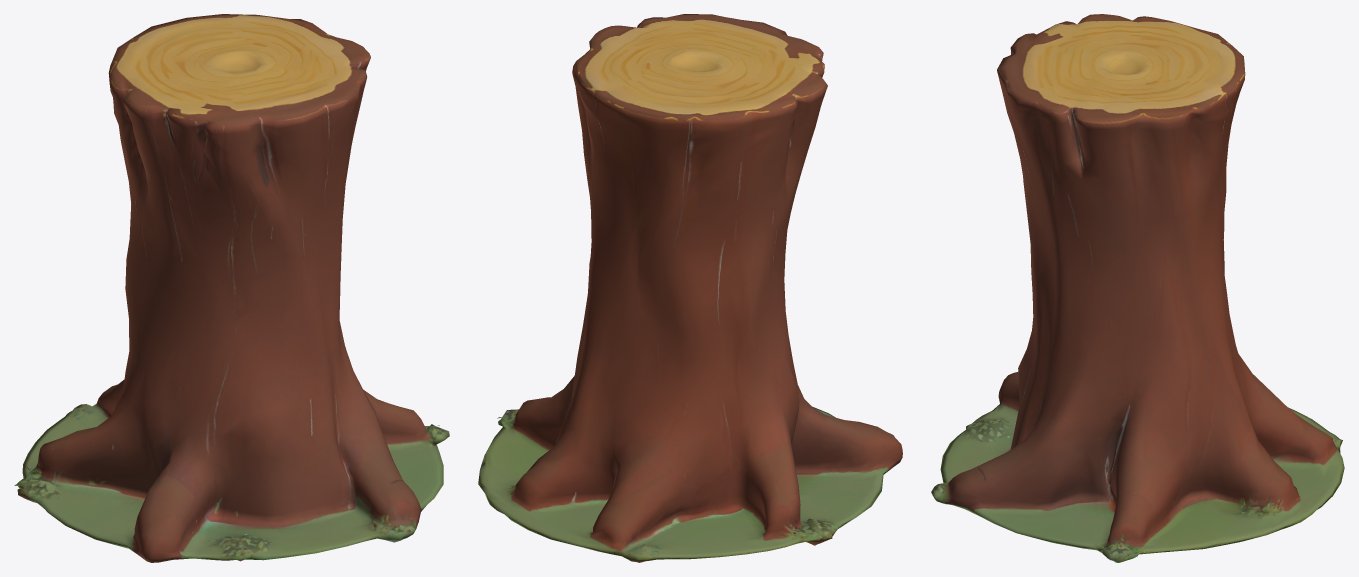
Rendered from tripo_convert_cb988131-f1c0-46c3-a015-db4fc119354d.fbx.
3 renders of one model, left to right at view 1: azimuth 30°, elevation 25°; view 2: azimuth 150°, elevation 25°; view 3: azimuth 270°, elevation 25°, orthographic. The views are drawn at different scales.
Parts seen in each view (by area): view 1: tripo_node_cb988131; view 2: tripo_node_cb988131; view 3: tripo_node_cb988131.
Part boxes in pixels (<box>): tripo_node_cb988131: <box>14,14,449,562</box>; tripo_node_cb988131: <box>478,14,902,562</box>; tripo_node_cb988131: <box>931,14,1344,562</box>.
Size of the model in its own units: 92.72 by 99.01 by 89.97.
Materials: 1 (1 with a texture image).
